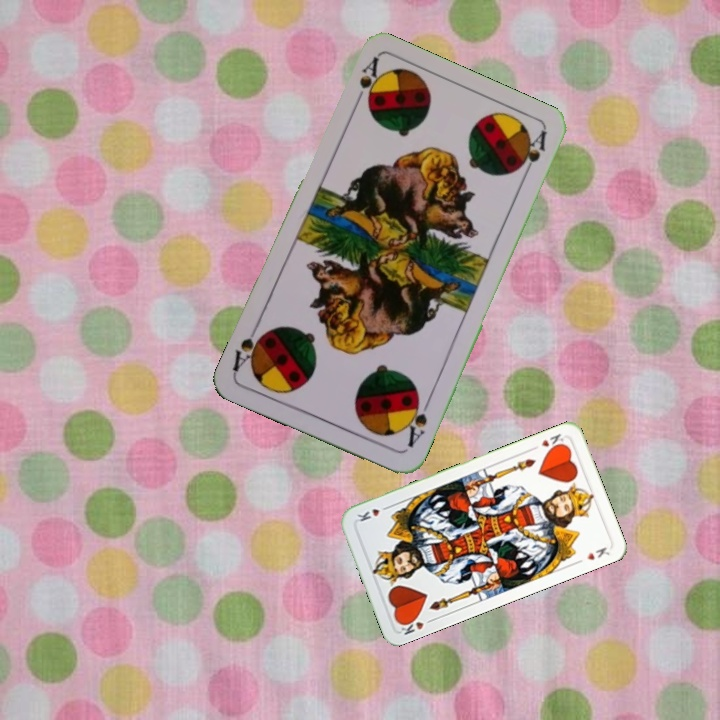HK: (395, 612, 436, 638), (537, 430, 567, 453)
SA: (350, 54, 385, 111), (400, 392, 433, 450)
